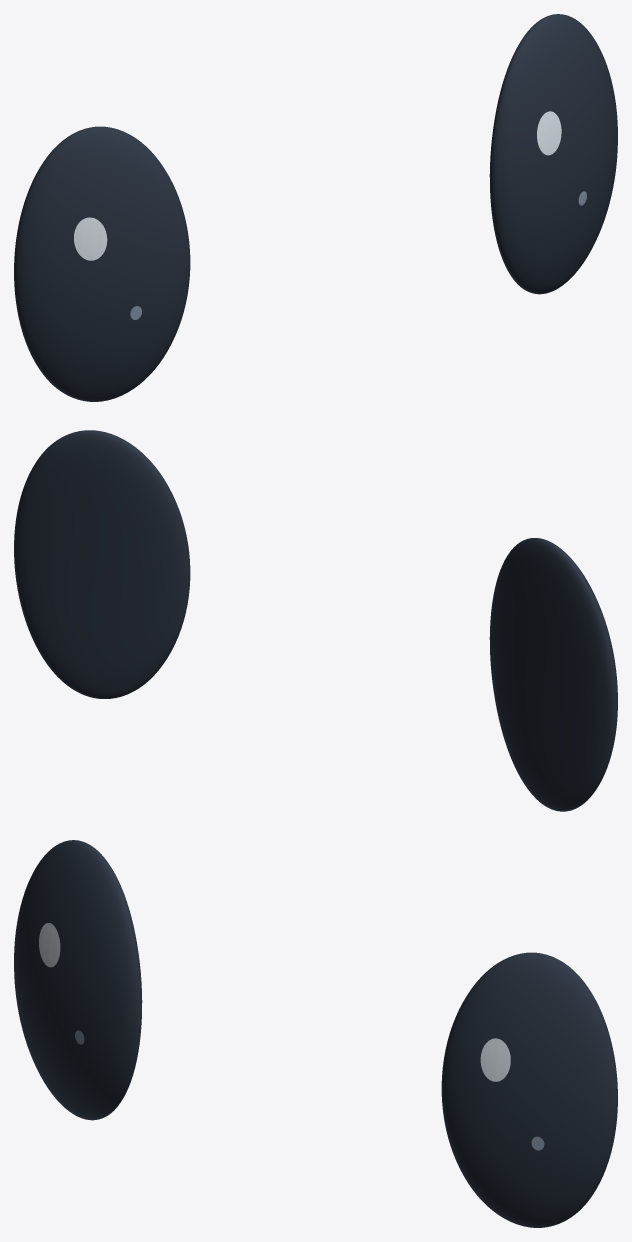
File: Feminine-uncovered-eyes.glb
3 views of the same model, one above another, from view 1: azimuth 30°, elevation 25°; view 2: azimuth 150°, elevation 25°; view 3: azimuth 330°, elevation 25° (orthographic).
Visible parts, largest first — view 1: Eye / dark oval -1, Eye / dark oval 1, Eye highlight / main -1, Eye highlight / main 1; view 2: Eye / dark oval 1, Eye / dark oval -1; view 3: Eye / dark oval 1, Eye / dark oval -1, Eye highlight / main 1, Eye highlight / main -1.
Boxes of the visible parts, bbox=[...] form: Eye / dark oval -1: bbox=[14, 126, 190, 401]; Eye / dark oval 1: bbox=[489, 14, 617, 294]; Eye highlight / main -1: bbox=[74, 217, 107, 260]; Eye highlight / main 1: bbox=[537, 111, 561, 155]; Eye / dark oval 1: bbox=[14, 430, 190, 698]; Eye / dark oval -1: bbox=[489, 538, 617, 811]; Eye / dark oval 1: bbox=[441, 952, 617, 1227]; Eye / dark oval -1: bbox=[14, 840, 142, 1120]; Eye highlight / main 1: bbox=[480, 1038, 510, 1081]; Eye highlight / main -1: bbox=[39, 923, 60, 967].
Bounding box in the file's own units: 0.4 × 0.172 × 0.0391.
